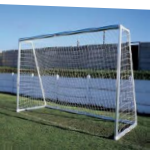goals: (15, 23, 138, 141)
